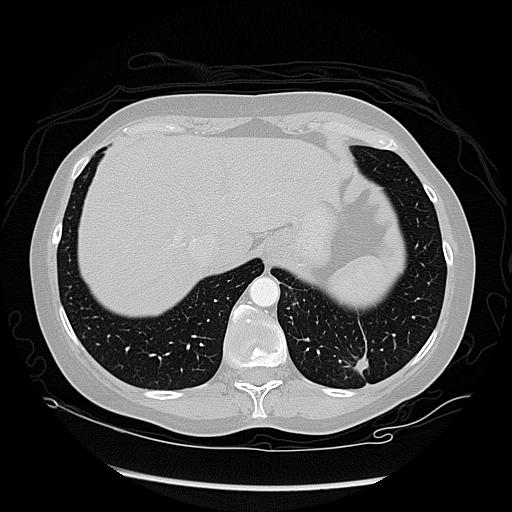nodule: (348, 351, 375, 378)
